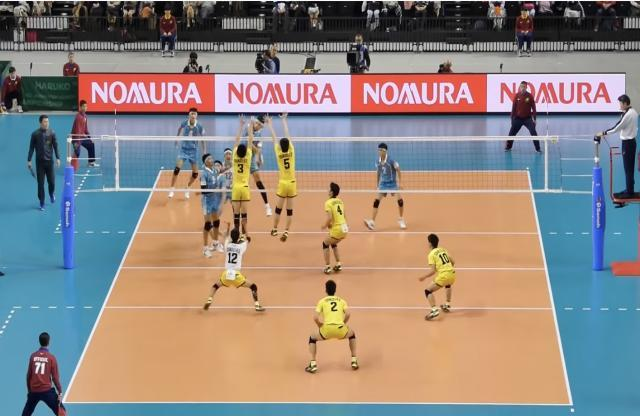block: (261, 110, 304, 246), (228, 111, 260, 245)
